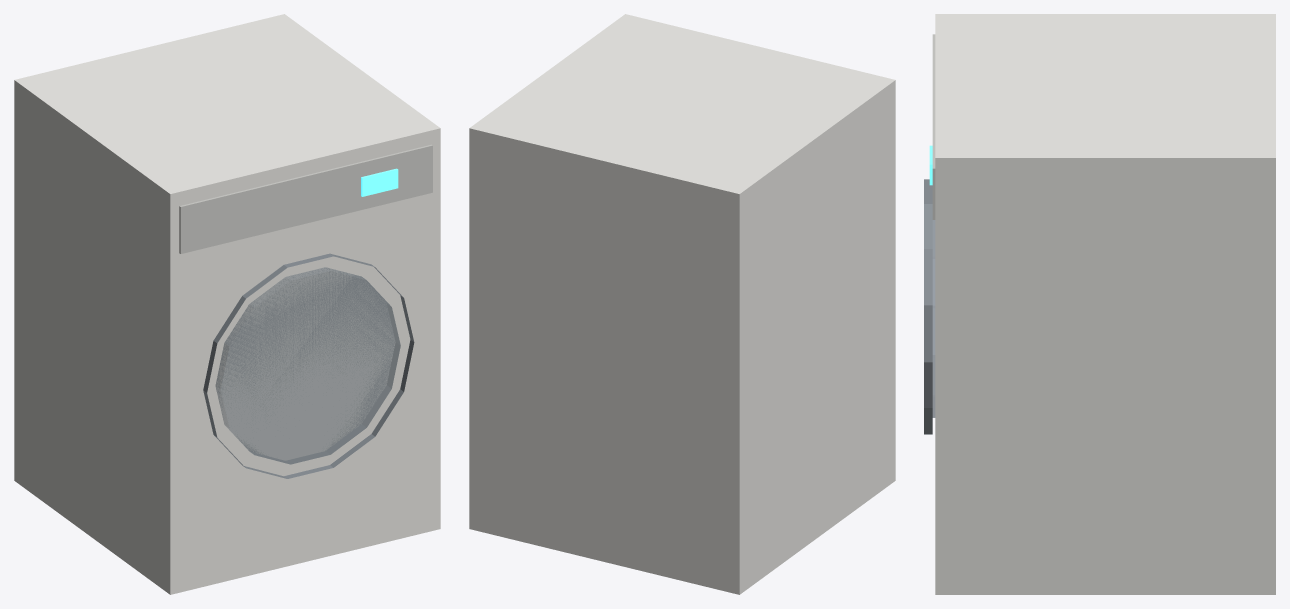
The model's file is Washer.glb.
3 views of the same model, side by side, from view 1: azimuth 30°, elevation 25°; view 2: azimuth 150°, elevation 25°; view 3: azimuth 270°, elevation 25° (orthographic). The views are drawn at different scales.
Visible parts, largest first — view 1: Washer; view 2: Washer; view 3: Washer.
Boxes of the visible parts, x1=… form: Washer: x1=14, y1=14, x2=440, y2=594; Washer: x1=469, y1=14, x2=895, y2=594; Washer: x1=924, y1=14, x2=1275, y2=594.
Bounding box in the file's own units: 0.6 × 0.85 × 0.62.
Materials: 2 (1 with a texture image).
